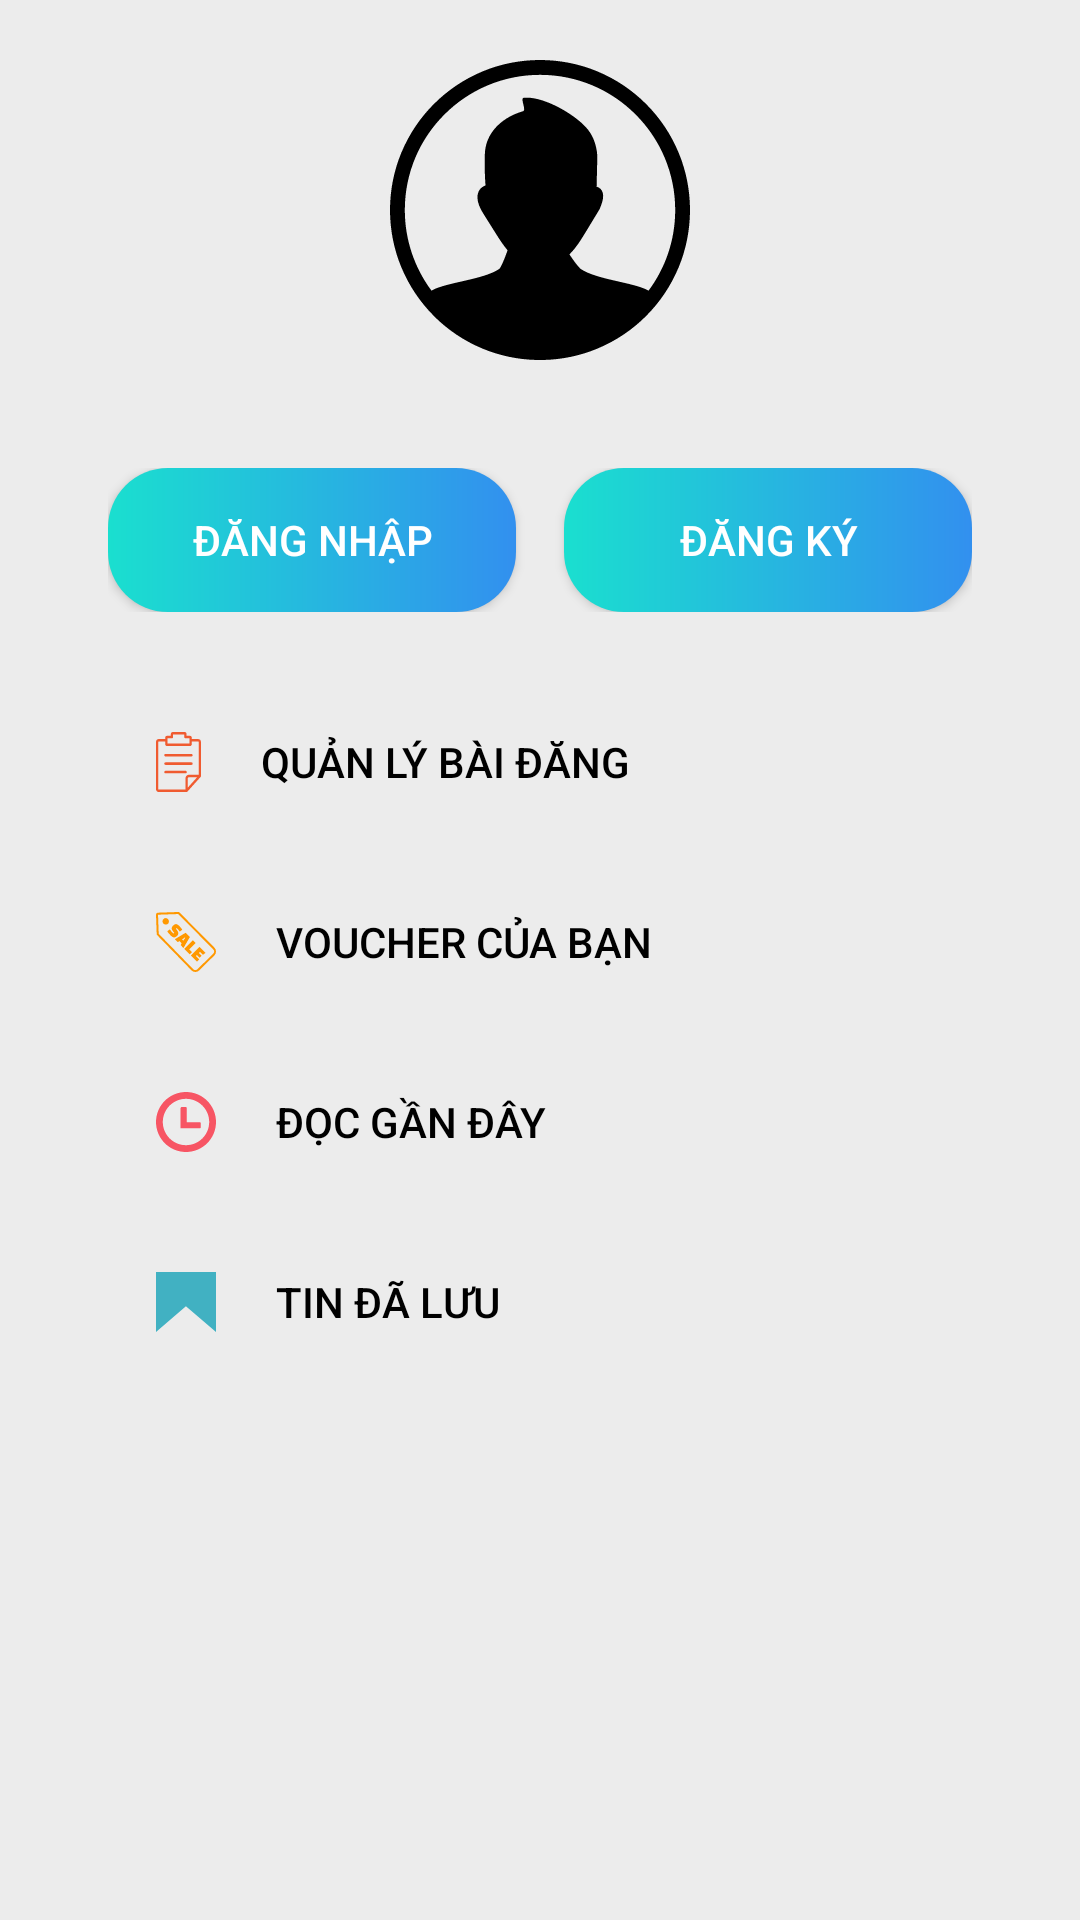

Icons on this 1080x1920 Android screen, each with its box as [x1,y1,x2,y2]:
user profile: [390,60,690,360]
